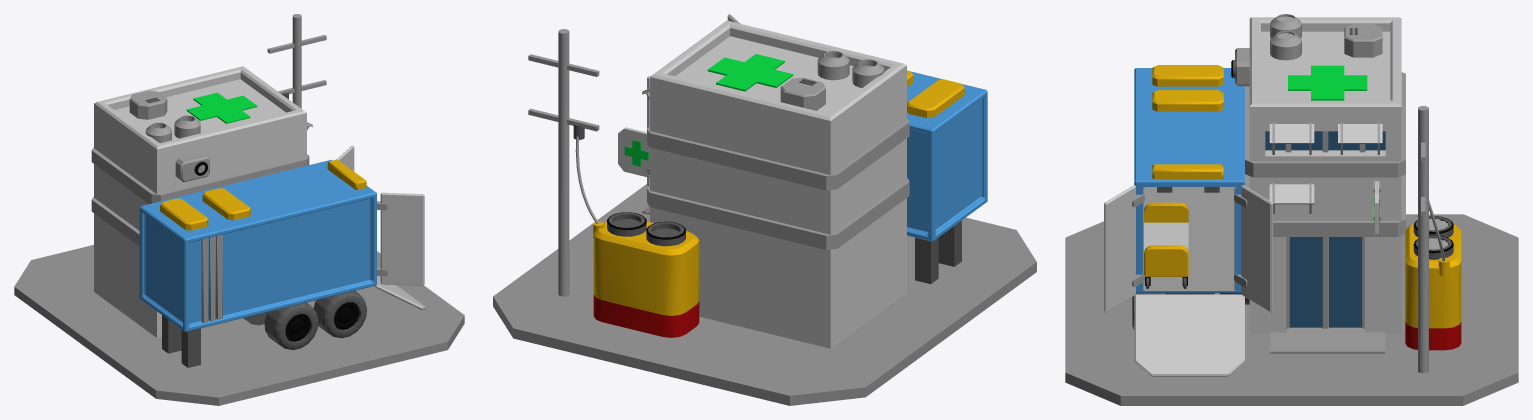
File: Hospital.fbx
3 views of the same model, side by side, from view 1: azimuth 30°, elevation 25°; view 2: azimuth 150°, elevation 25°; view 3: azimuth 270°, elevation 25° (orthographic). The views are drawn at different scales.
Parts seen in each view (by area): view 1: Null_19, Null_93, Null_82, Null_91, Null_7, Null_73, Null_72, Null_10, Null_11, Null_9, Null_48, Null_95 (+12 smaller); view 2: Null_82, Null_19, Null_93, Null_15, Null_7, Null_6, Null_48, Null_10, Null_95, Null_9, Null_14, Null_97 (+6 smaller); view 3: Null_19, Null_82, Null_93, Null_18, Null_83, Null_94, Null_15, Null_92, Null_7, Null_91, Null_49, Null_48 (+17 smaller).
Boxes of the visible parts, x1,y1,x2,y2 form: Null_19: (14,245,464,405); Null_93: (139,159,376,331); Null_82: (94,66,306,337); Null_91: (380,192,424,285); Null_7: (91,147,309,203); Null_73: (264,302,318,349); Null_72: (313,291,366,338); Null_10: (160,198,208,230); Null_11: (202,188,250,220); Null_9: (129,90,167,119); Null_48: (292,14,301,108); Null_95: (186,95,257,120); Null_82: (650,20,906,348); Null_19: (493,184,1036,405); Null_93: (907,71,987,241); Null_15: (593,221,699,337); Null_7: (647,118,909,190); Null_6: (647,178,909,249); Null_48: (558,29,569,296); Null_10: (907,79,964,118); Null_95: (707,57,793,87); Null_9: (780,77,825,110); Null_14: (618,127,649,177); Null_97: (915,237,938,284); Null_19: (1065,214,1518,405); Null_82: (1249,17,1401,334); Null_93: (1134,68,1244,292); Null_18: (1134,294,1244,376); Null_83: (1286,237,1364,328); Null_94: (1143,187,1235,290); Null_15: (1405,224,1461,350); Null_92: (1241,185,1273,312); Null_7: (1245,72,1405,177); Null_91: (1104,185,1135,312); Null_49: (1270,328,1385,353); Null_48: (1418,106,1428,373).
Bounding box in the file's own units: 496 × 353 × 523.
